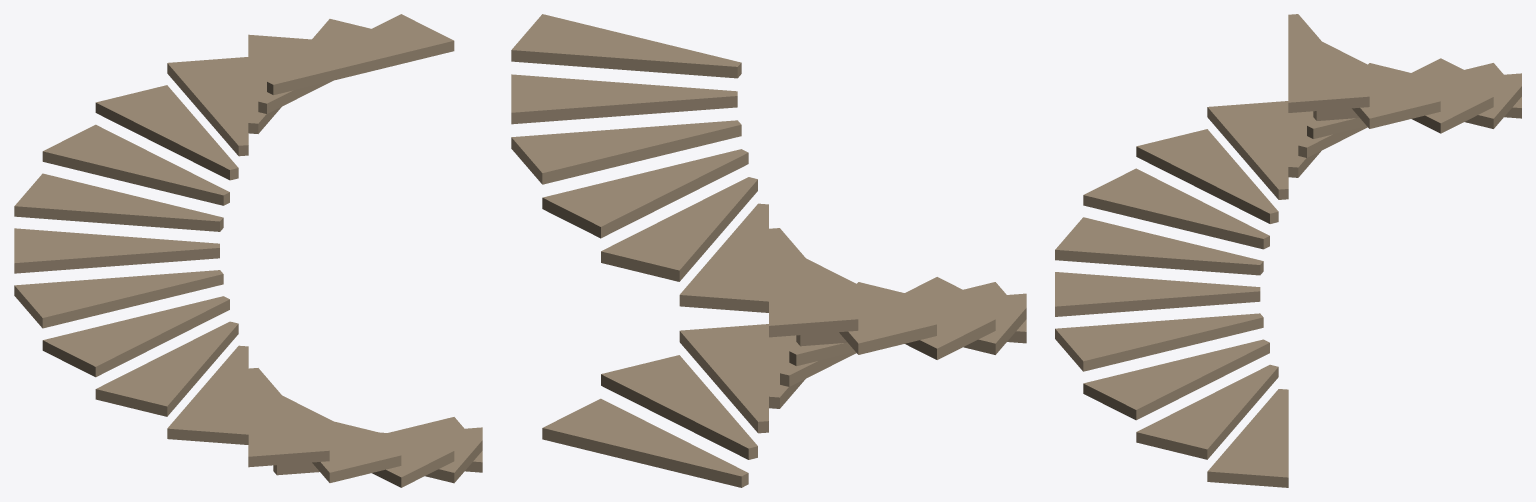
Rendered from stair_candidate_connection_024.glb.
3 views of the same model, side by side, from view 1: azimuth 30°, elevation 25°; view 2: azimuth 150°, elevation 25°; view 3: azimuth 270°, elevation 25° (orthographic). The views are drawn at different scales.
Visible parts, largest first — view 1: connection_024-element-9, connection_024-element-11, connection_024-element-10, connection_024-element-17, connection_024-element-8, connection_024-element-12, connection_024-element-7, connection_024-element-13, connection_024-element-5, connection_024-element-6, connection_024-element-14, connection_024-element-4 (+6 smaller); view 2: connection_024-element-15, connection_024-element-17, connection_024-element-16, connection_024-element-14, connection_024-element-0, connection_024-element-13, connection_024-element-1, connection_024-element-11, connection_024-element-12, connection_024-element-2, connection_024-element-10, connection_024-element-9 (+6 smaller); view 3: connection_024-element-3, connection_024-element-5, connection_024-element-4, connection_024-element-6, connection_024-element-2, connection_024-element-1, connection_024-element-7, connection_024-element-17, connection_024-element-8, connection_024-element-0, connection_024-element-16, connection_024-element-15 (+6 smaller).
Part boxes in pixels (left/top/right/bottom): connection_024-element-9: left=14, top=270, right=223, bottom=328; connection_024-element-11: left=14, top=173, right=223, bottom=231; connection_024-element-10: left=14, top=228, right=219, bottom=273; connection_024-element-17: left=267, top=14, right=454, bottom=95; connection_024-element-8: left=42, top=296, right=229, bottom=377; connection_024-element-12: left=42, top=124, right=229, bottom=205; connection_024-element-7: left=95, top=321, right=238, bottom=416; connection_024-element-13: left=95, top=85, right=238, bottom=180; connection_024-element-5: left=248, top=368, right=329, bottom=467; connection_024-element-6: left=167, top=345, right=248, bottom=444; connection_024-element-14: left=167, top=57, right=248, bottom=156; connection_024-element-4: left=282, top=395, right=401, bottom=482; connection_024-element-15: left=511, top=120, right=741, bottom=184; connection_024-element-17: left=511, top=14, right=741, bottom=78; connection_024-element-16: left=511, top=74, right=737, bottom=124; connection_024-element-14: left=542, top=149, right=748, bottom=238; connection_024-element-0: left=542, top=398, right=748, bottom=487; connection_024-element-13: left=601, top=177, right=757, bottom=281; connection_024-element-1: left=601, top=355, right=757, bottom=459; connection_024-element-11: left=769, top=228, right=858, bottom=337; connection_024-element-12: left=679, top=203, right=768, bottom=312; connection_024-element-2: left=679, top=324, right=768, bottom=433; connection_024-element-10: left=806, top=258, right=936, bottom=354; connection_024-element-9: left=864, top=287, right=995, bottom=359; connection_024-element-3: left=1055, top=313, right=1263, bottom=371; connection_024-element-5: left=1055, top=217, right=1263, bottom=275; connection_024-element-4: left=1055, top=272, right=1260, bottom=316; connection_024-element-6: left=1083, top=168, right=1269, bottom=249; connection_024-element-2: left=1083, top=339, right=1269, bottom=420; connection_024-element-1: left=1136, top=364, right=1278, bottom=459; connection_024-element-7: left=1136, top=129, right=1278, bottom=223; connection_024-element-17: left=1288, top=14, right=1369, bottom=112; connection_024-element-8: left=1207, top=101, right=1288, bottom=199; connection_024-element-0: left=1207, top=389, right=1288, bottom=487; connection_024-element-16: left=1323, top=42, right=1440, bottom=128; connection_024-element-15: left=1374, top=67, right=1493, bottom=133.
Size of the model in its own units: 3.3 by 2.96 by 3.25.
